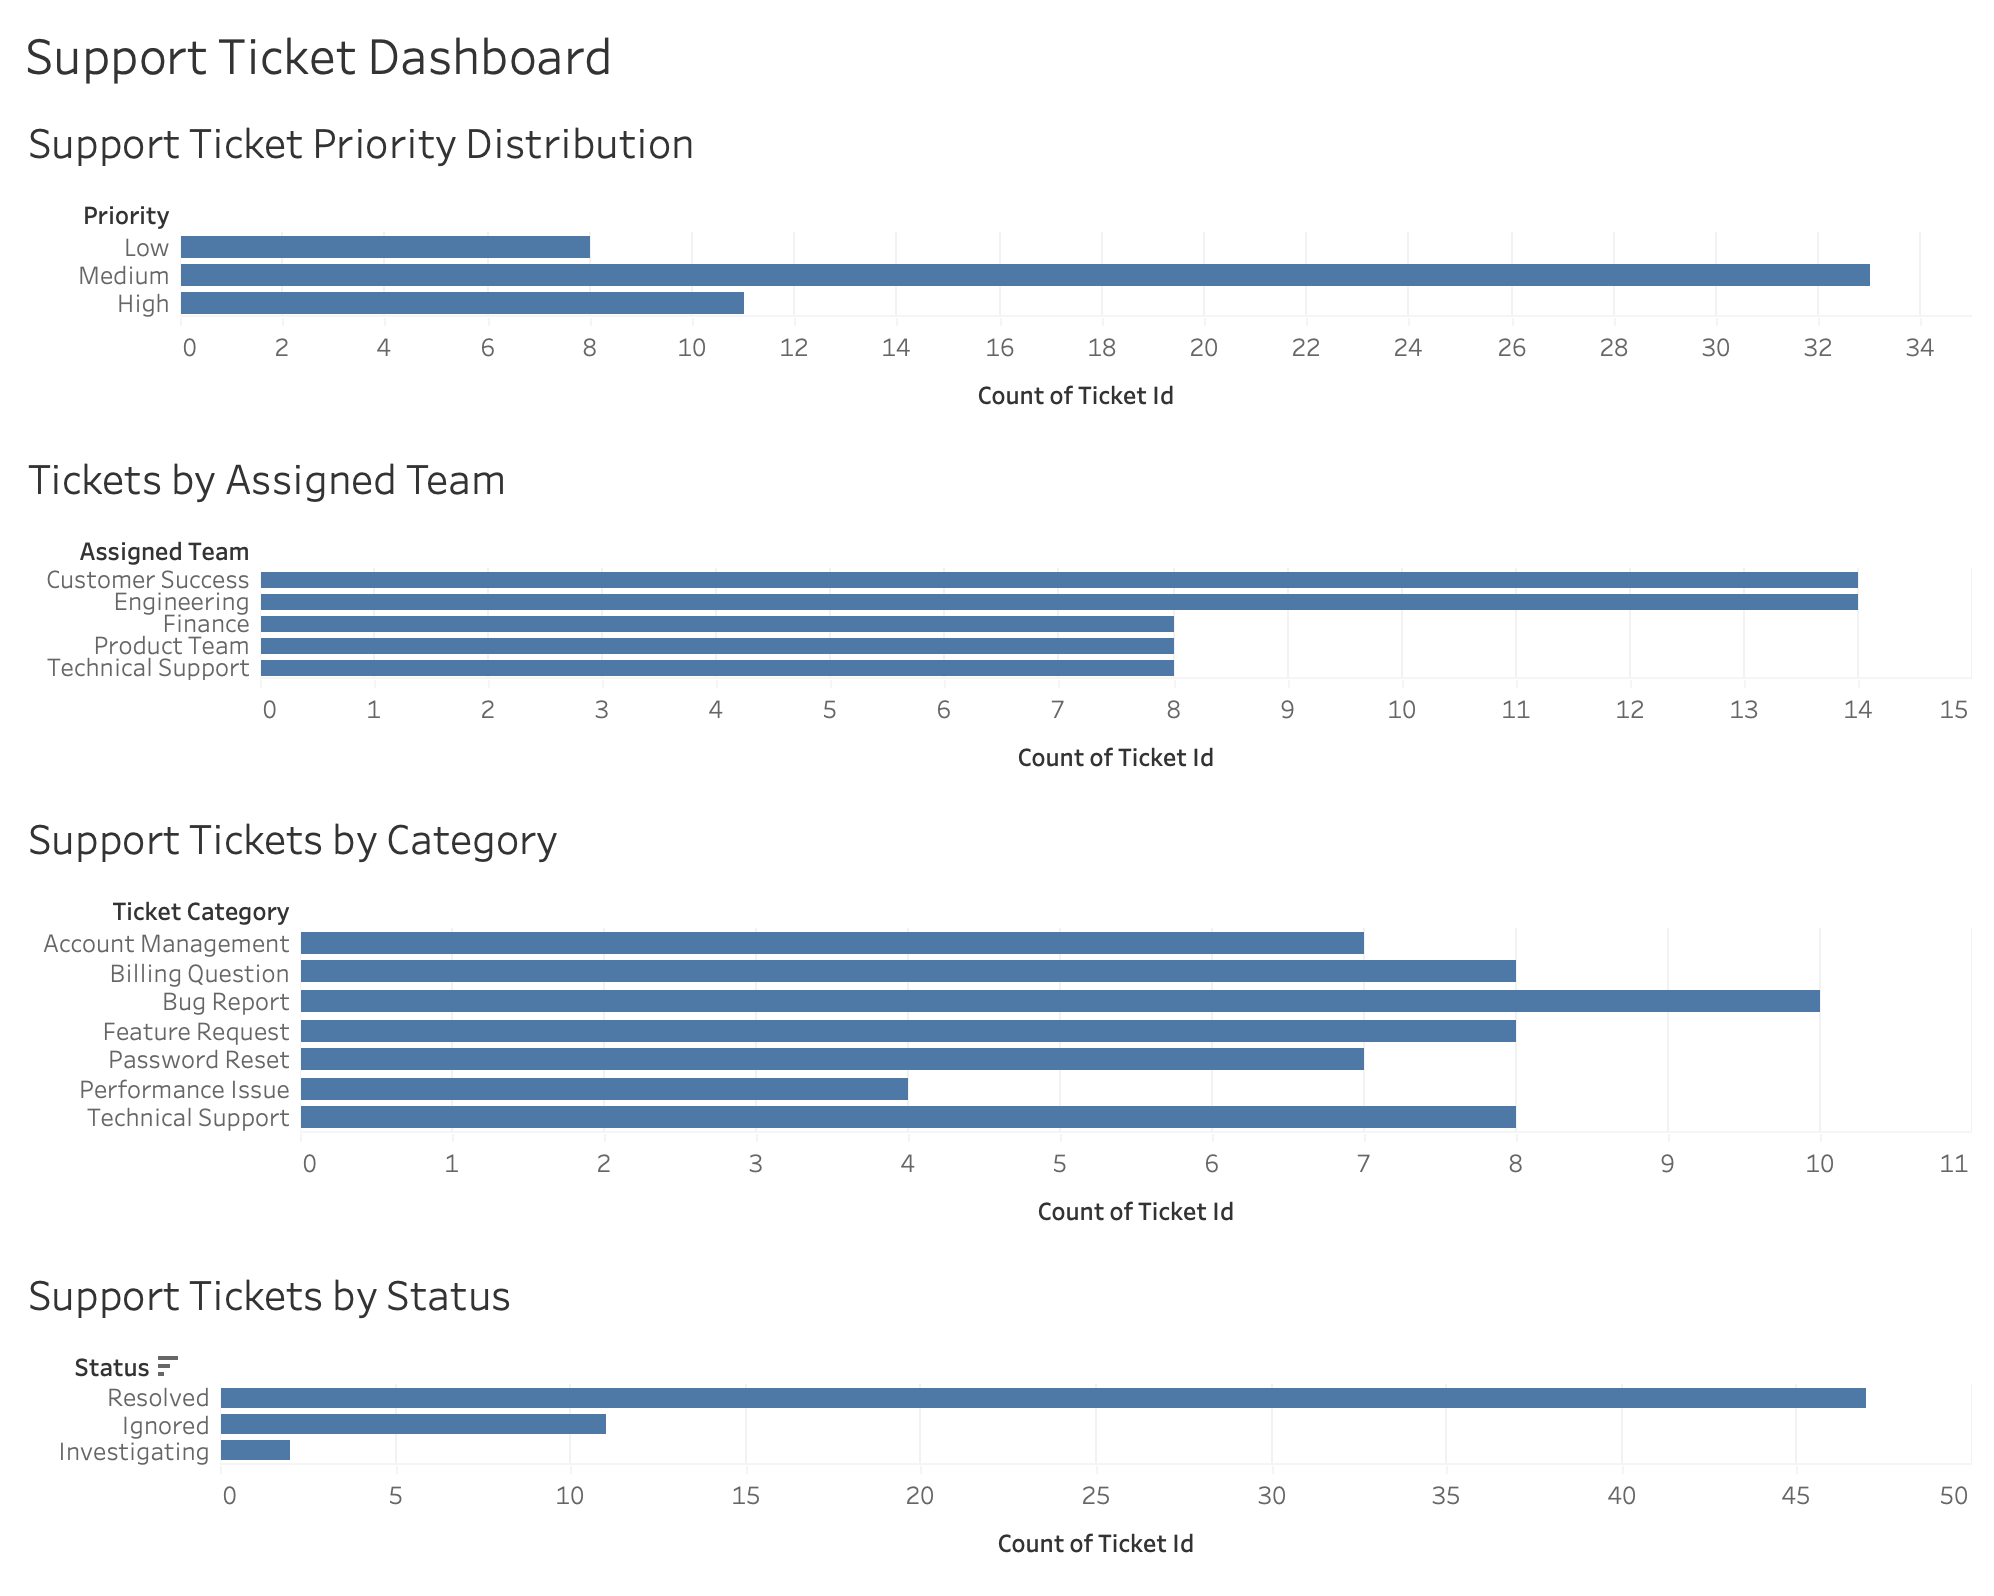

This screenshot's page, from the dashboard's own definition file:
{"tool":"tableau","page":{"name":"Support Ticket Dashboard","canvas":[1000,800],"ordinal":3},"visuals":[{"type":"title","box":[8,8,984,42]},{"type":"worksheet","title":"Support Ticket Priority Distribution","mark":"Automatic","rows":["priority"],"cols":["ticket_id"],"box":[8,50,984,167.5]},{"type":"worksheet","title":"Tickets by Assigned Team","mark":"Automatic","rows":["assigned_team"],"cols":["ticket_id"],"box":[8,217.5,984,180.8]},{"type":"worksheet","title":"Support Tickets by Category","mark":"Automatic","rows":["ticket_category"],"cols":["ticket_id"],"box":[8,398.3,984,228.1]},{"type":"worksheet","title":"Support Tickets by Status","mark":"Automatic","rows":["status"],"cols":["ticket_id"],"box":[8,626.4,984,165.6]}]}

Visuals, with their boxes in screenshot pixels (x1, y1, x2, y2), scaled from the page's 1000x800 canvas onto the 1994x1596 screenshot:
title: <box>16,16,1978,100</box>
"Support Ticket Priority Distribution" worksheet: <box>16,100,1978,434</box>
"Tickets by Assigned Team" worksheet: <box>16,434,1978,795</box>
"Support Tickets by Category" worksheet: <box>16,795,1978,1250</box>
"Support Tickets by Status" worksheet: <box>16,1250,1978,1580</box>
